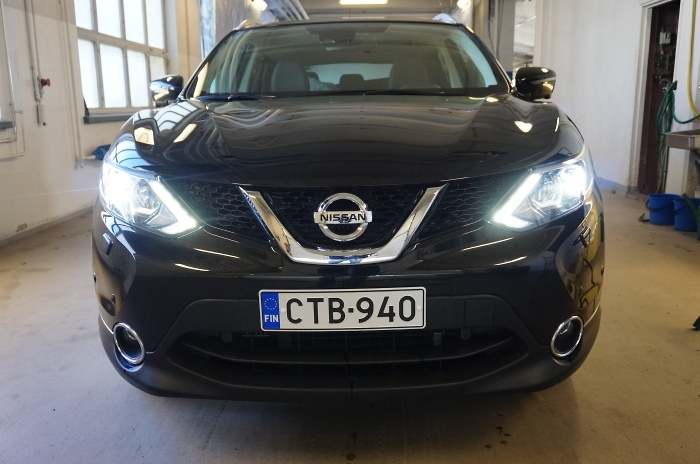license: (257, 286, 425, 336)
